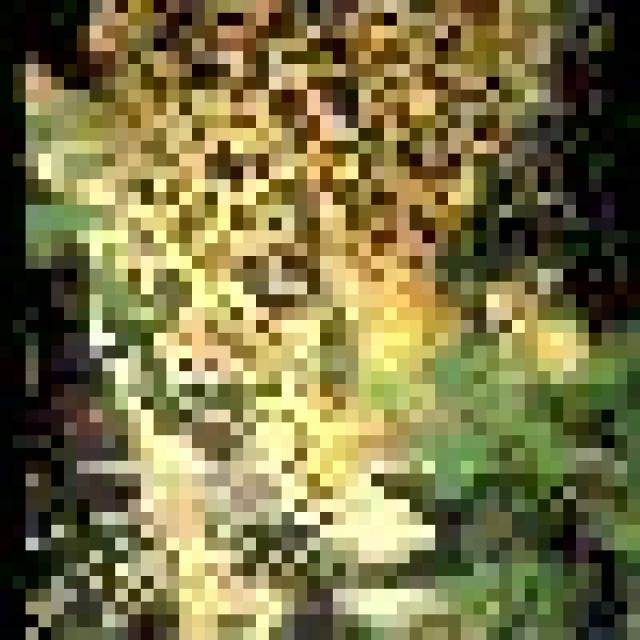Leopard: (0, 0, 614, 614)
